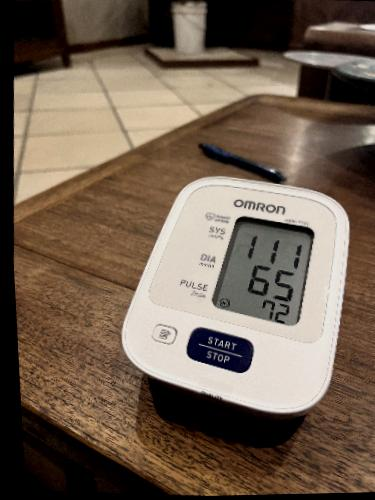bpm: (206, 207, 322, 329)
